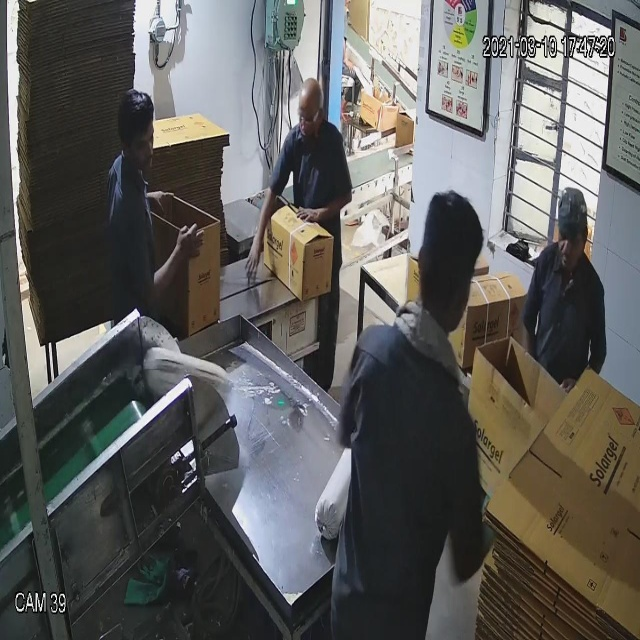Sin_guantes: (138, 226, 212, 305), (239, 187, 282, 292), (297, 187, 358, 236)
